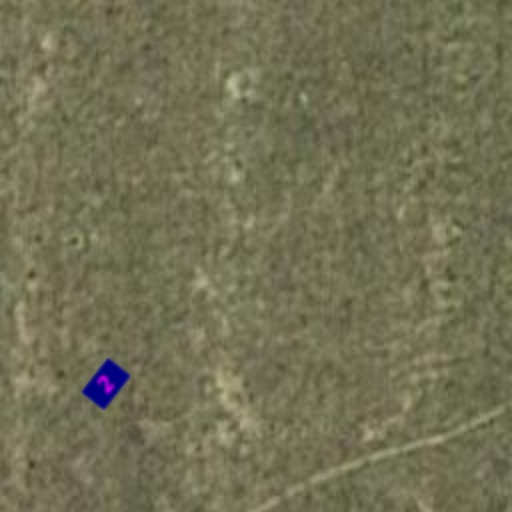rectangle: (74, 352, 138, 416)
